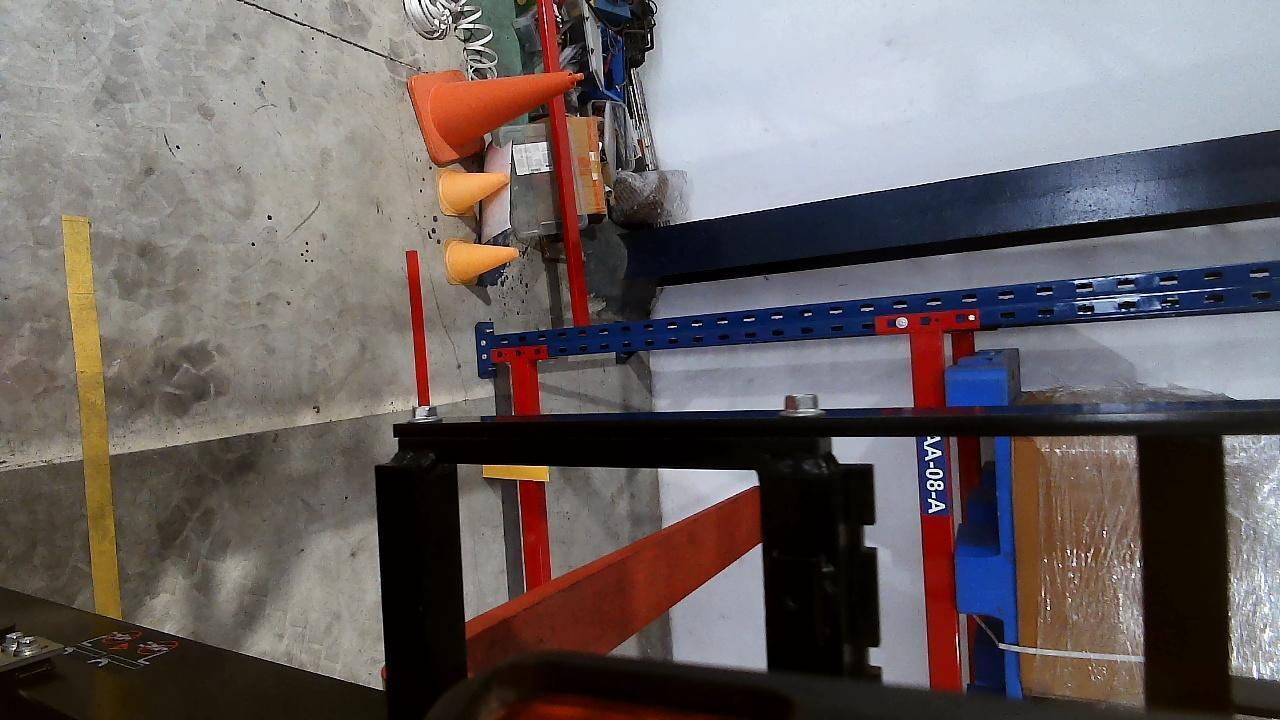red_line: (404, 249, 431, 407)
yellow_line: (60, 214, 117, 622)
